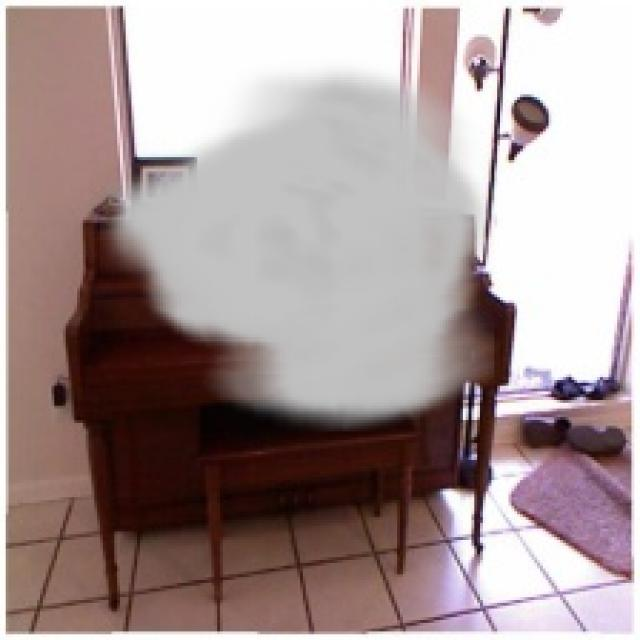smoke: (100, 57, 494, 432)
